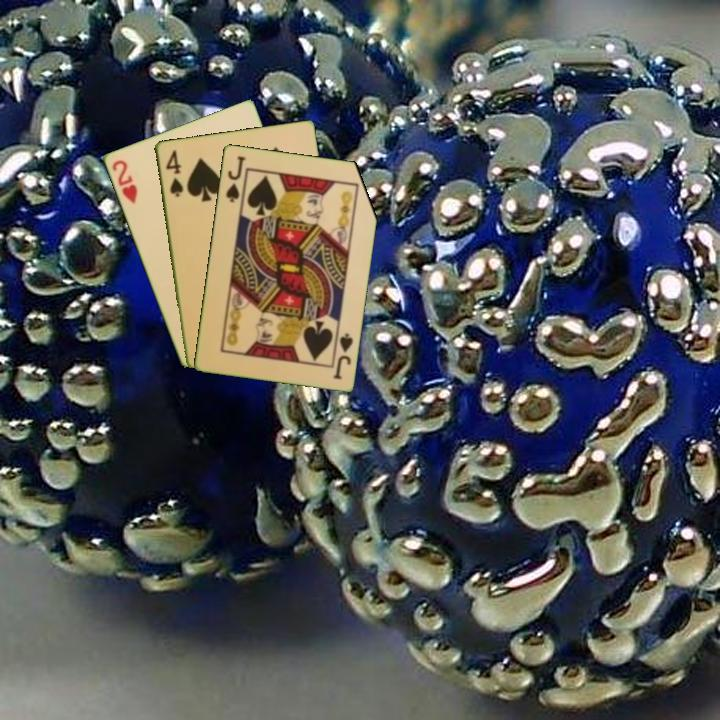2h: (108, 156, 140, 206)
4s: (162, 146, 186, 200)
Js: (329, 329, 356, 382), (222, 152, 248, 205)
